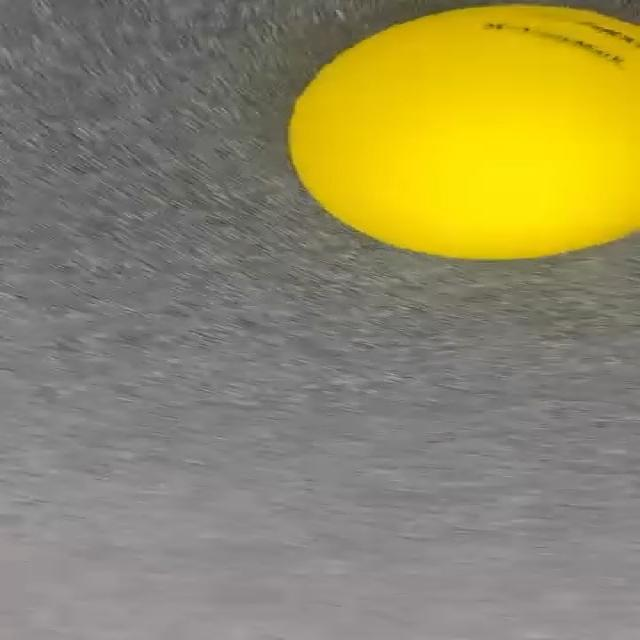Fuels: (284, 0, 640, 264)
